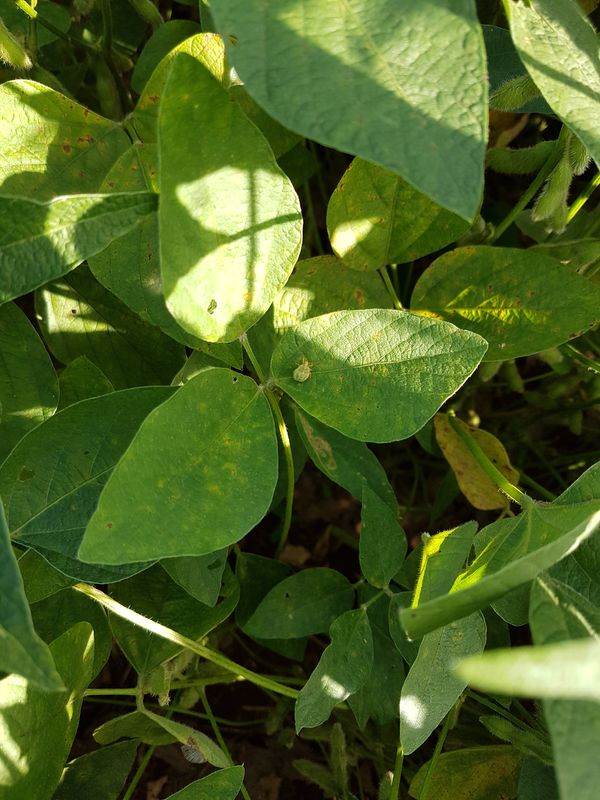Euschistus_heros_ninfa: (286, 354, 319, 388)
Gastropoda: (175, 738, 218, 773)
